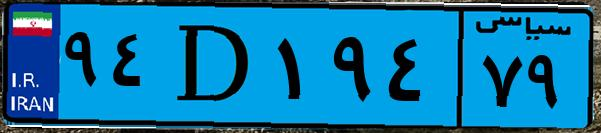1: (270, 28, 330, 110)
4: (385, 28, 445, 110), (110, 28, 158, 98)
7: (475, 38, 525, 113)
9: (330, 28, 385, 110), (57, 26, 110, 100), (525, 38, 570, 115)
D: (158, 12, 270, 120)
